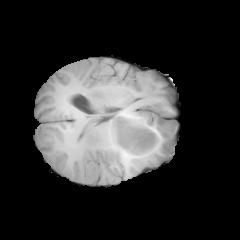glioma: (103, 104, 177, 165)
